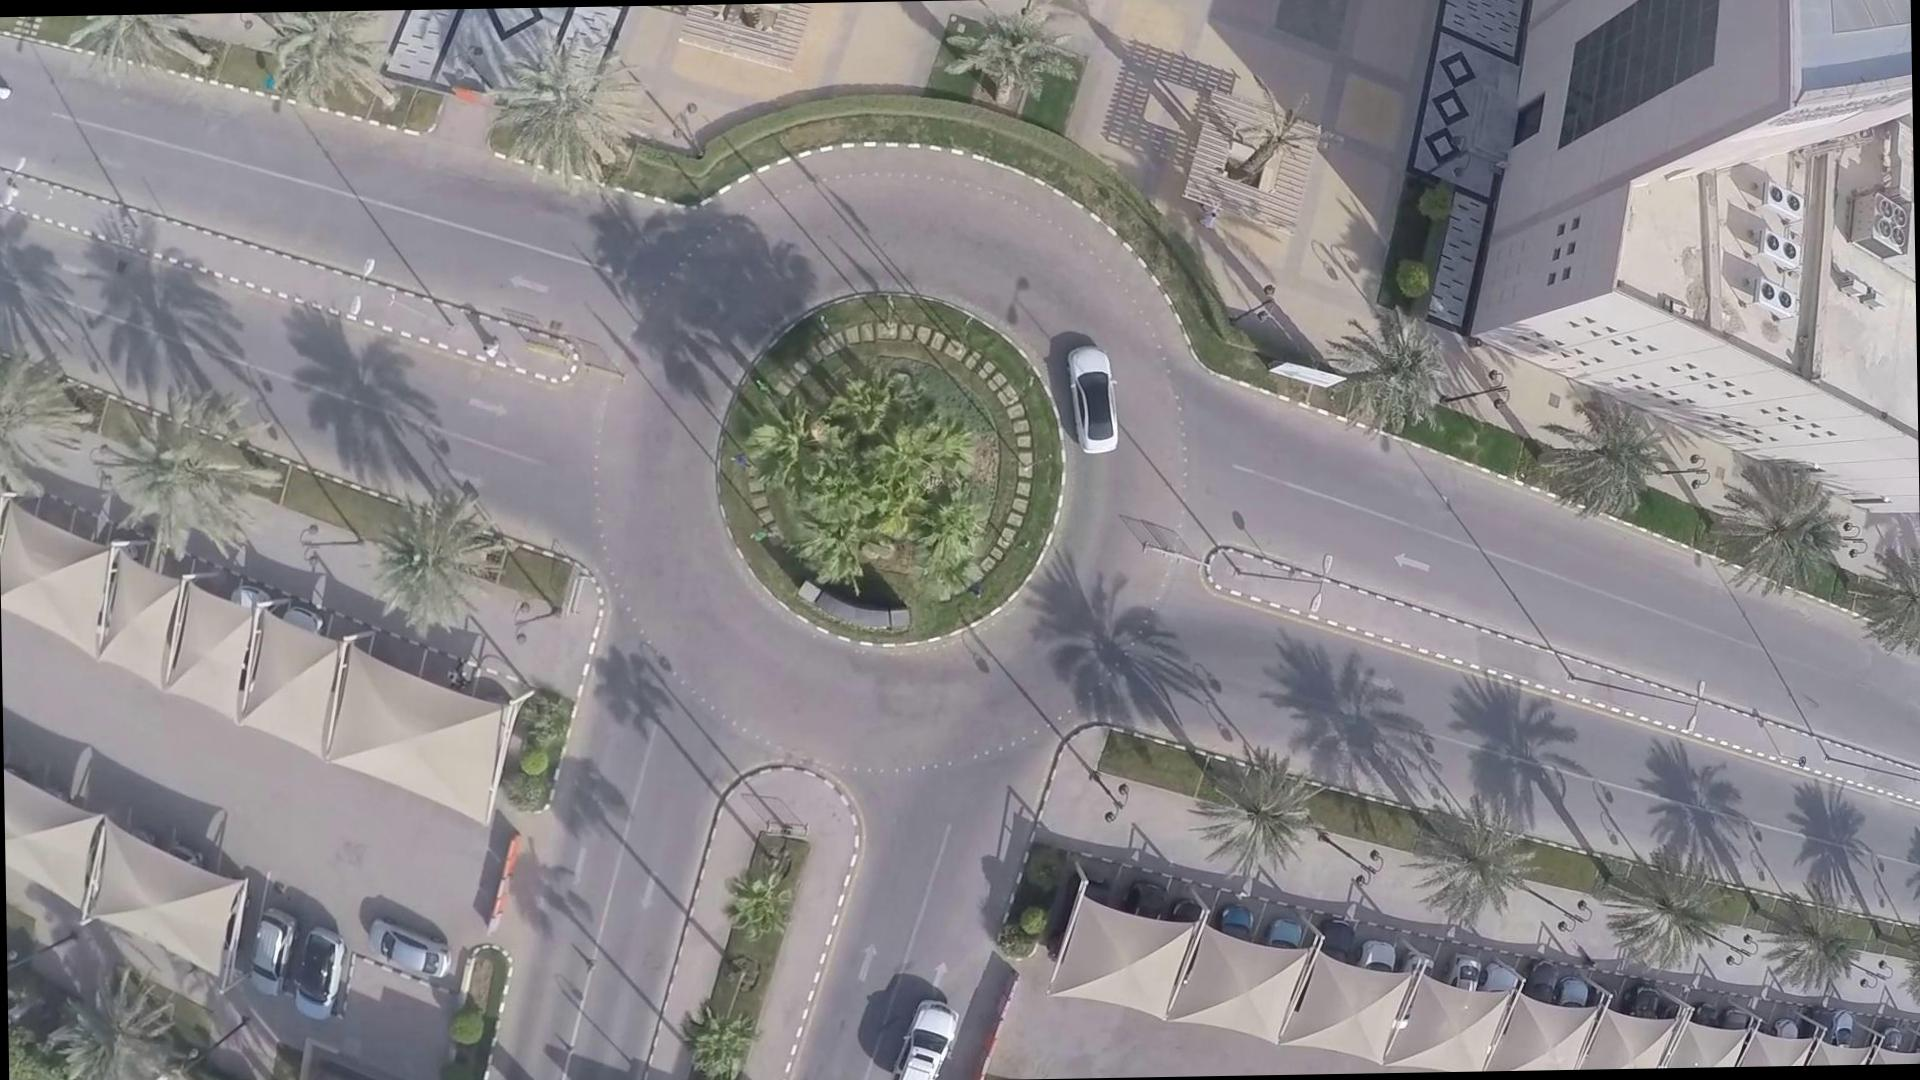vehicle: (1059, 339, 1131, 451)
